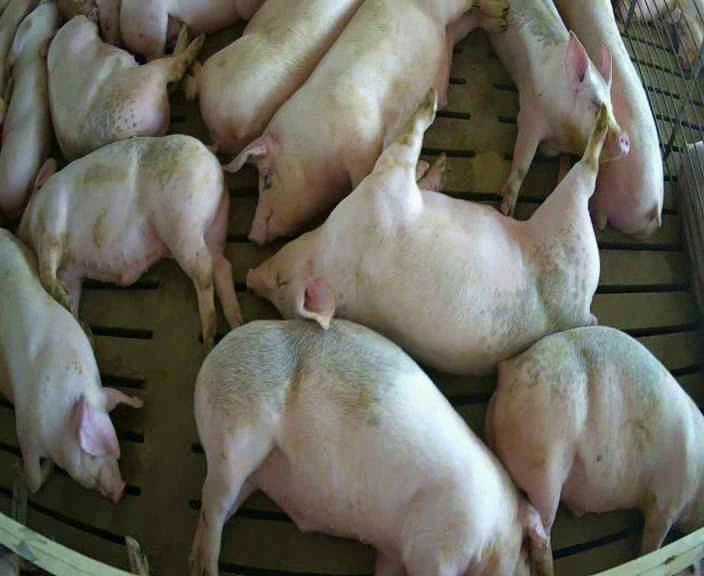pig: (248, 94, 607, 373), (190, 320, 553, 575), (478, 2, 631, 214), (183, 2, 359, 153), (557, 2, 663, 238), (0, 1, 68, 217), (120, 0, 259, 59)
